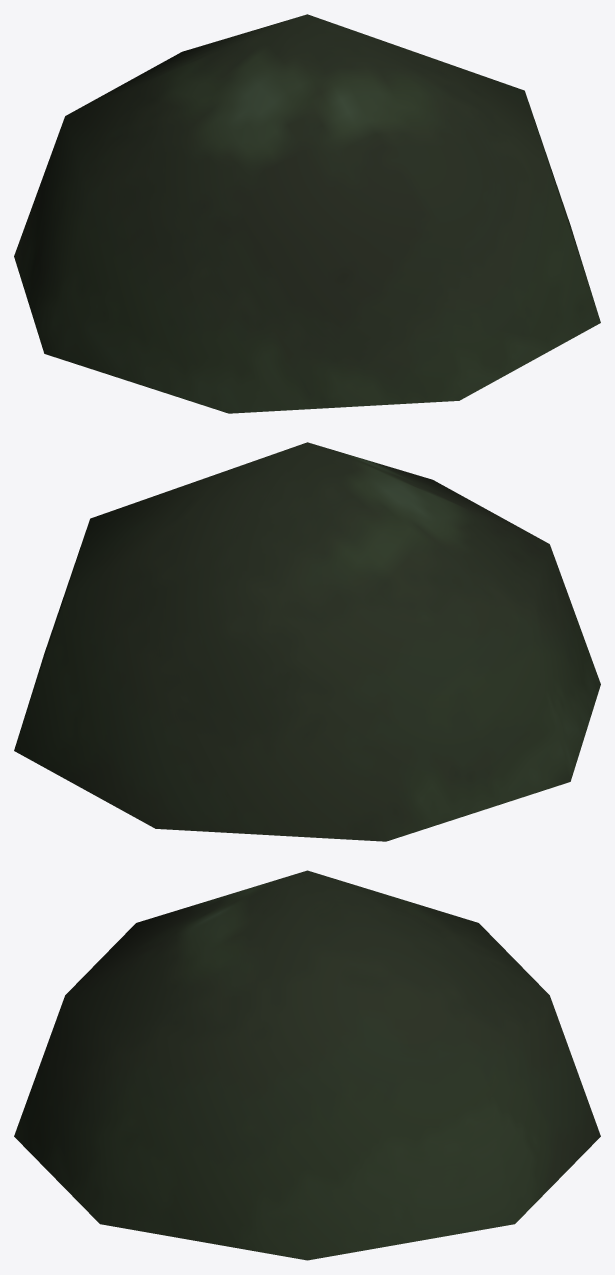
Rendered from yw_zhaoze_swampbubble_001.FBX.
3 views of the same model, one above another, from view 1: azimuth 30°, elevation 25°; view 2: azimuth 150°, elevation 25°; view 3: azimuth 270°, elevation 25° (orthographic). The views are drawn at different scales.
Visible parts, largest first — view 1: yw_zhaoze_swampbubble_001; view 2: yw_zhaoze_swampbubble_001; view 3: yw_zhaoze_swampbubble_001.
Part boxes in pixels (x1=…): yw_zhaoze_swampbubble_001: x1=14, y1=14, x2=600, y2=413; yw_zhaoze_swampbubble_001: x1=14, y1=442, x2=600, y2=841; yw_zhaoze_swampbubble_001: x1=14, y1=870, x2=600, y2=1260.
Size of the model in its own units: 34.89 by 34.89 by 17.45.
